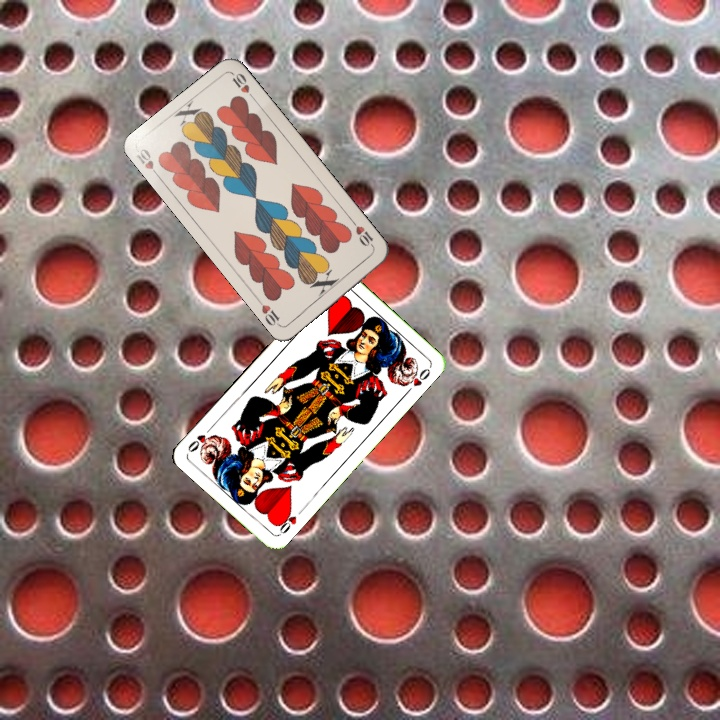H10: (132, 144, 163, 181), (348, 216, 377, 251)
HO: (272, 504, 306, 537)
